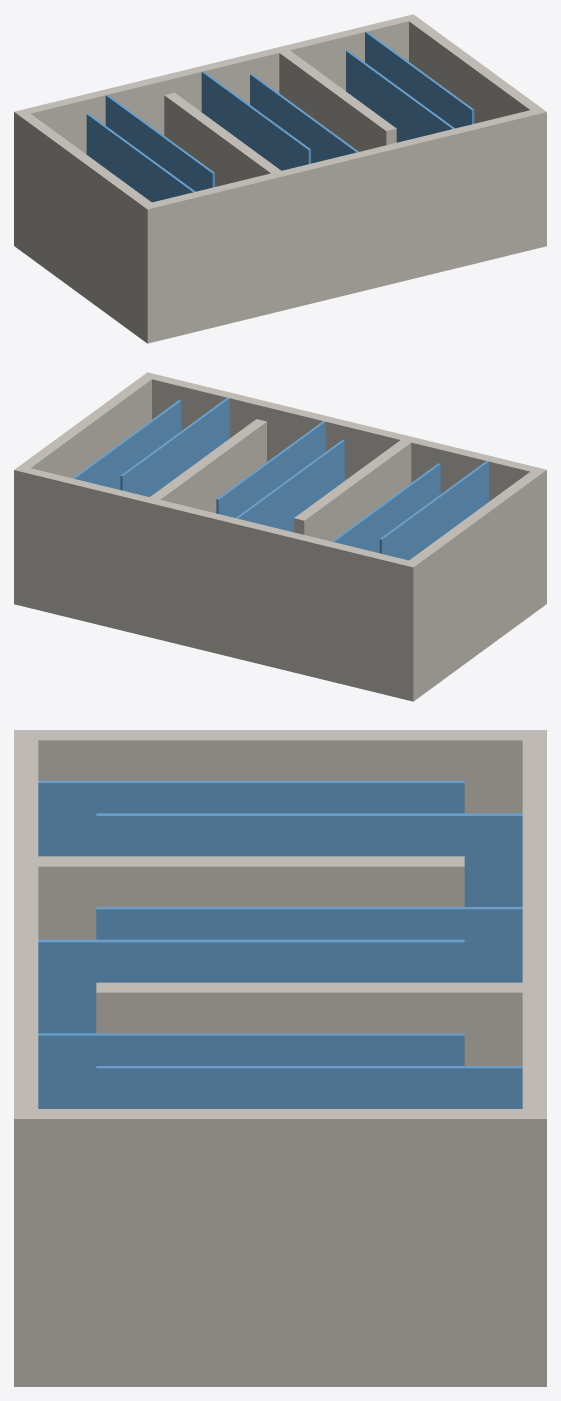
3 views of the same model, one above another, from view 1: azimuth 30°, elevation 25°; view 2: azimuth 150°, elevation 25°; view 3: azimuth 270°, elevation 25° (orthographic). The views are drawn at different scales.
Visible parts, largest first — view 1: agua_floculador__pantallas_horizontales__cuerpo, agua_floculador__pantallas_horizontales__pantallas; view 2: agua_floculador__pantallas_horizontales__cuerpo, agua_floculador__pantallas_horizontales__pantallas; view 3: agua_floculador__pantallas_horizontales__cuerpo, agua_floculador__pantallas_horizontales__pantallas.
Boxes of the visible parts, x1,y1,x2,y2 form: agua_floculador__pantallas_horizontales__cuerpo: [14, 14, 546, 343]; agua_floculador__pantallas_horizontales__pantallas: [86, 31, 474, 202]; agua_floculador__pantallas_horizontales__cuerpo: [14, 372, 546, 701]; agua_floculador__pantallas_horizontales__pantallas: [72, 397, 488, 560]; agua_floculador__pantallas_horizontales__cuerpo: [14, 730, 546, 1386]; agua_floculador__pantallas_horizontales__pantallas: [38, 780, 522, 1108].
Bounding box in the file's own units: 9.5 × 3.05 × 5.5.
